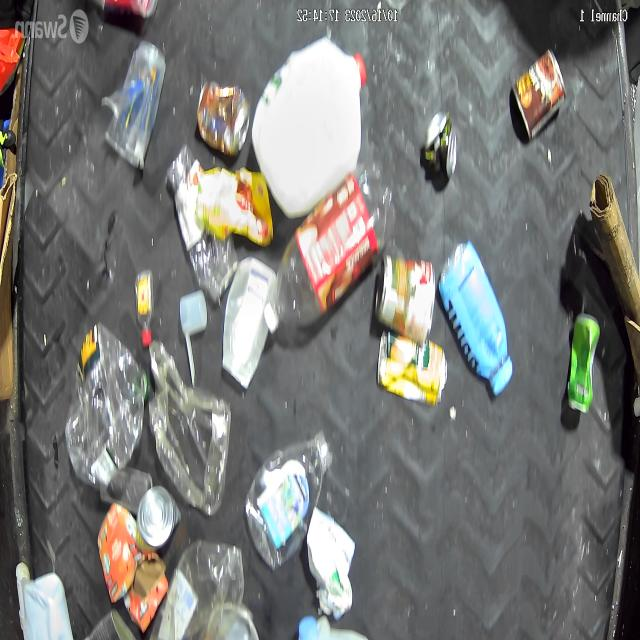can: (190, 76, 252, 168), (372, 248, 435, 338), (510, 47, 567, 140), (373, 342, 448, 407), (564, 311, 602, 423), (136, 479, 185, 557), (422, 110, 458, 184)
milk_jug: (253, 33, 368, 226), (283, 616, 368, 640)
plastic_bottle: (264, 163, 391, 341)
